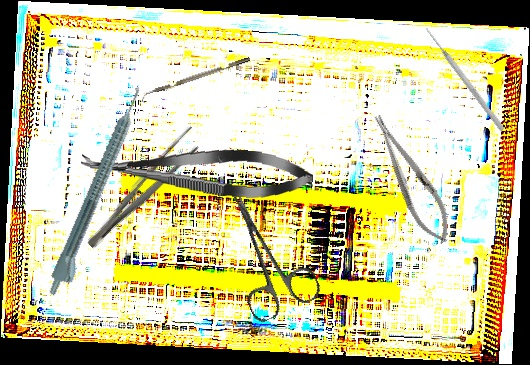Chopper: (139, 56, 253, 103)
Dressing Forceps: (80, 123, 208, 256)
Handpiece: (44, 84, 155, 302)
Iris Scissors: (206, 180, 324, 325)
Micro Scissor: (79, 138, 315, 203)
Needle Holder: (362, 107, 461, 250)
Pusher: (423, 25, 506, 133)
